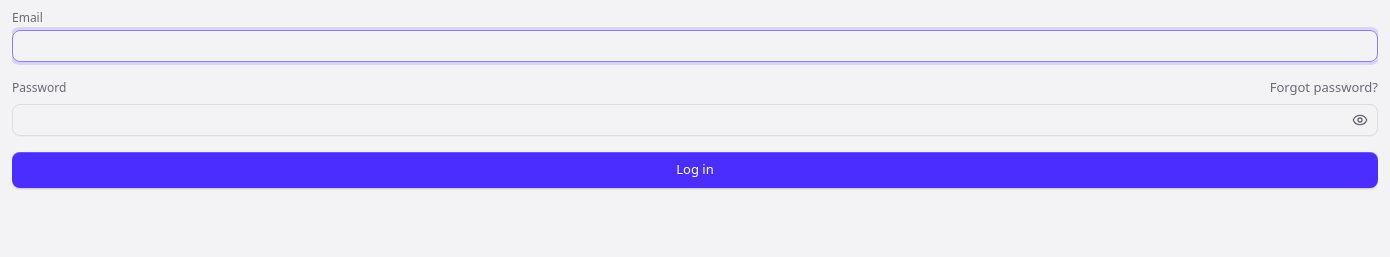
Test: LoginForm › shows the server's message for wrong credentials
The width and height of the screenshot is (1390, 257).
Type "dana@acme.com" into the field labelled "Email".
click(695, 46); type("dana@acme.com")  # box [12, 30, 1378, 62]
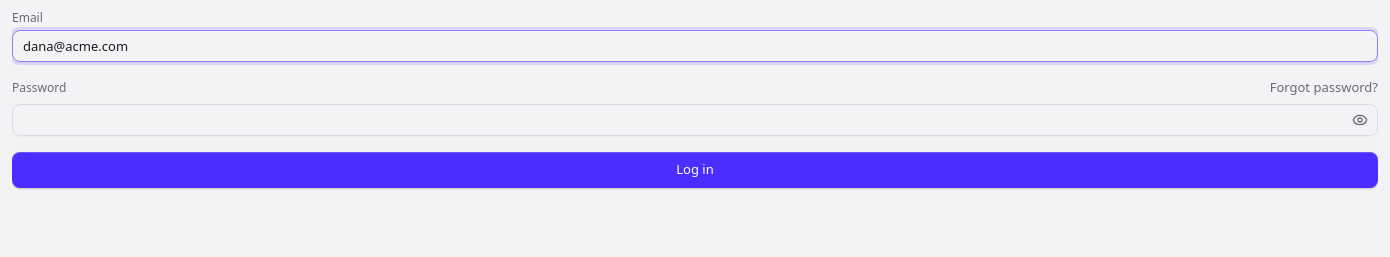
Type "wrong-password" into the password field labelled "Password".
click(695, 120); type("wrong-password")  # box [12, 104, 1378, 136]
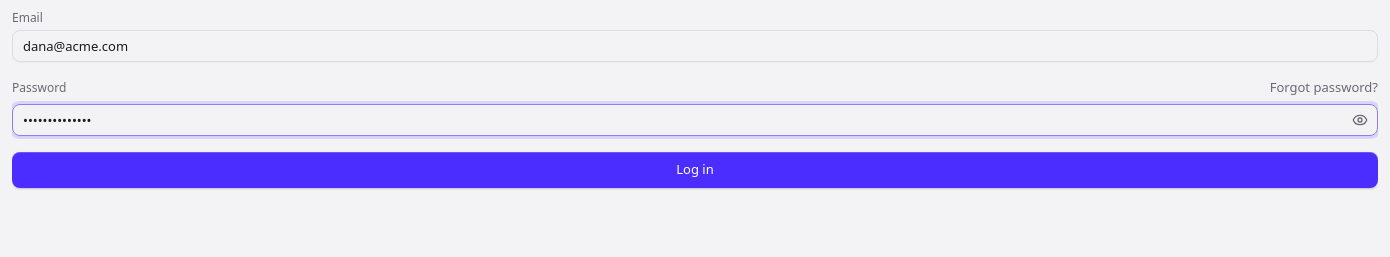
Click the button "Log in".
click(695, 170)  # box [12, 152, 1378, 188]
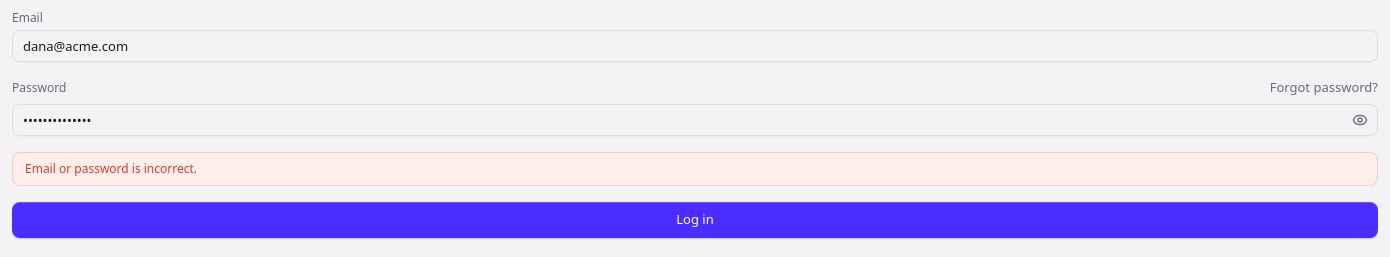
Result: the message reads "Email or password is incorrect." at [25, 160, 197, 176]
